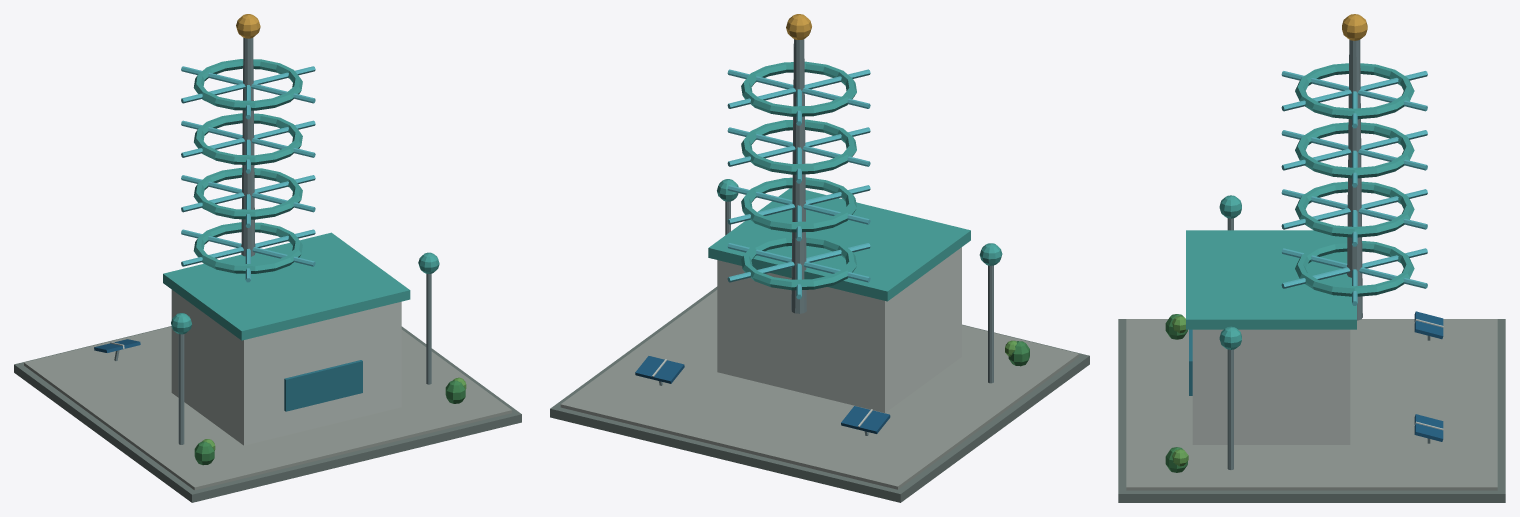
File: uv_station_lv3.glb
3 renders of one model, left to right at view 1: azimuth 30°, elevation 25°; view 2: azimuth 150°, elevation 25°; view 3: azimuth 270°, elevation 25°, orthographic. The views are drawn at different scales.
Visible parts, largest first — view 1: rough, glossy, metallic; view 2: rough, glossy, metallic; view 3: rough, glossy, metallic.
Part boxes in pixels (x1=…): rough: x1=14, y1=14, x2=521, y2=502; glossy: x1=181, y1=66, x2=362, y2=411; metallic: x1=94, y1=37, x2=431, y2=444; rough: x1=550, y1=14, x2=1089, y2=502; glossy: x1=727, y1=69, x2=870, y2=299; metallic: x1=635, y1=39, x2=993, y2=435; rough: x1=1118, y1=14, x2=1505, y2=502; glossy: x1=1189, y1=71, x2=1427, y2=395; metallic: x1=1227, y1=39, x2=1443, y2=469.
Size of the model in its own units: 9.2 by 9.81 by 8.6.
